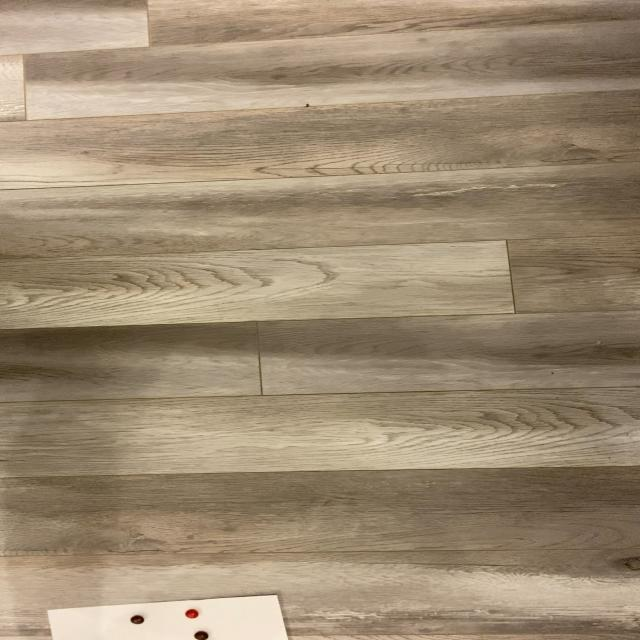smartie: (129, 616, 143, 626), (184, 610, 198, 620), (193, 632, 208, 640)
